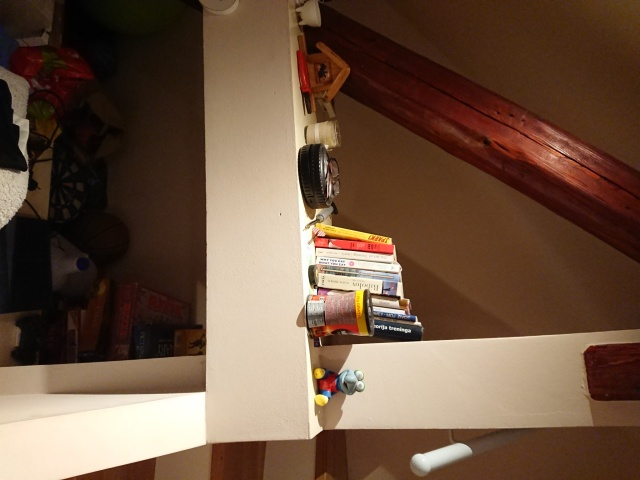Nescafe Classic 225g: (303, 286, 378, 342)
